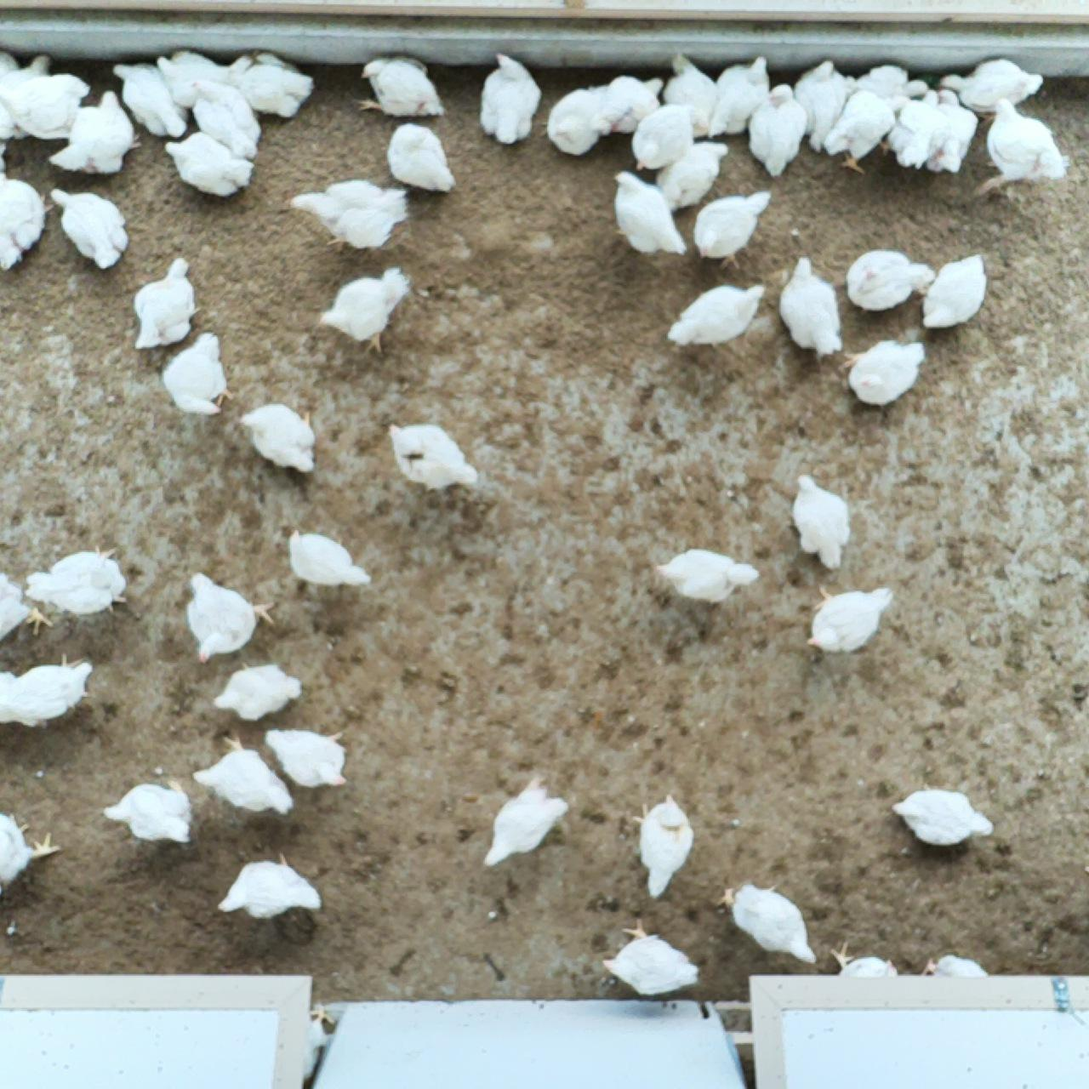chicken: (975, 94, 1073, 198), (282, 178, 412, 252), (189, 727, 292, 818), (182, 568, 279, 664), (599, 911, 704, 999), (479, 774, 572, 872), (312, 265, 412, 356), (720, 880, 820, 968), (215, 847, 326, 923), (22, 544, 130, 622), (821, 87, 909, 177), (51, 88, 142, 175), (822, 935, 907, 1025), (937, 55, 1045, 125), (181, 74, 264, 165), (45, 183, 130, 271), (612, 164, 687, 263), (775, 254, 846, 358), (382, 416, 479, 492), (886, 780, 991, 850), (835, 336, 932, 411), (631, 792, 697, 899), (877, 86, 957, 174), (669, 282, 768, 352), (100, 772, 191, 848), (693, 186, 775, 270), (805, 582, 899, 655), (131, 256, 202, 352), (787, 471, 855, 570), (0, 67, 88, 141), (162, 330, 234, 419), (349, 55, 445, 121), (6, 655, 94, 727), (227, 48, 312, 122), (478, 48, 542, 146), (546, 84, 629, 159), (161, 131, 255, 197), (844, 248, 940, 312), (920, 948, 999, 1025), (651, 139, 734, 212), (652, 549, 758, 606), (744, 80, 807, 175), (238, 401, 317, 476), (798, 56, 856, 158), (919, 252, 991, 334), (705, 53, 771, 142), (660, 49, 723, 142), (211, 661, 303, 723), (113, 61, 188, 137), (385, 123, 457, 202), (286, 527, 372, 593), (919, 85, 980, 178), (267, 725, 349, 794), (0, 810, 61, 898), (847, 64, 932, 124), (633, 102, 698, 173), (595, 72, 665, 137), (0, 165, 42, 273), (159, 52, 234, 112), (0, 570, 52, 649), (9, 54, 53, 143), (0, 663, 40, 734), (0, 43, 17, 145)
